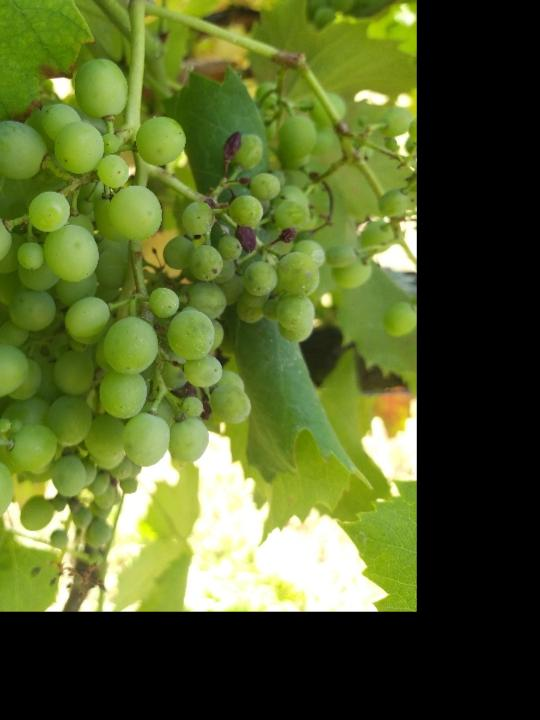grape: (0, 55, 333, 510)
